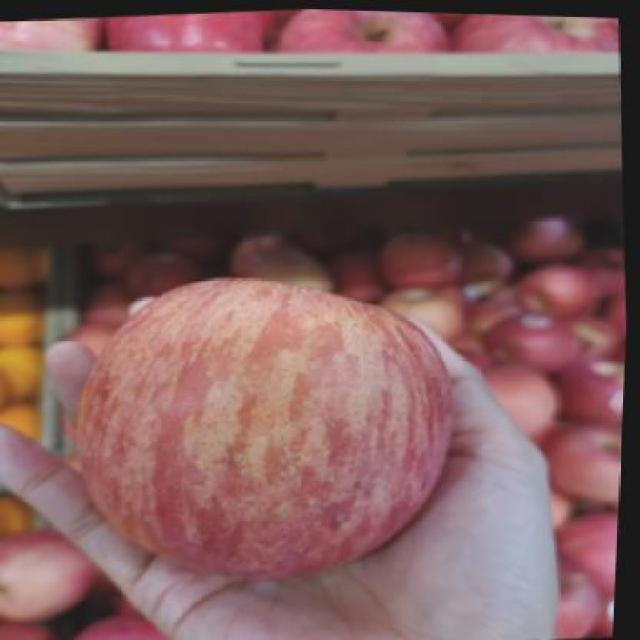Fresh Apple: (79, 278, 442, 568)
